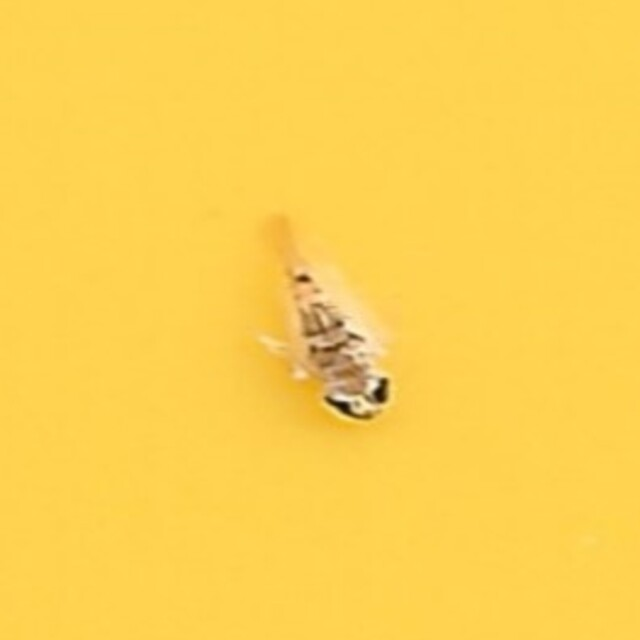Hemiptera: (243, 217, 397, 423)
